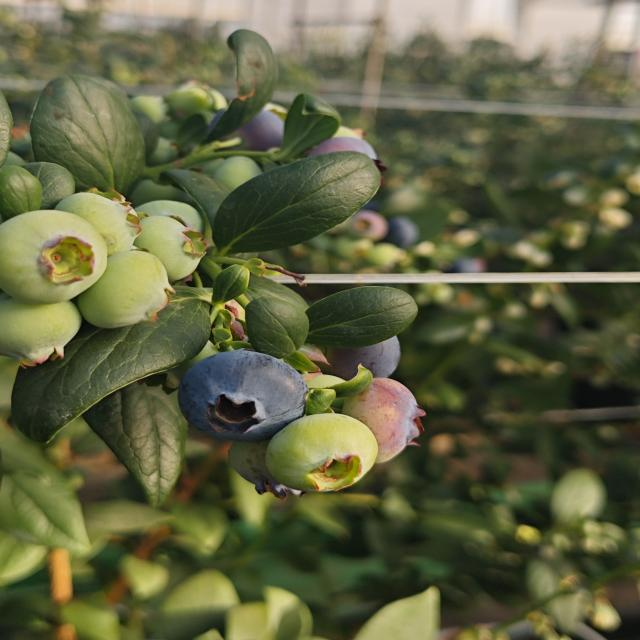ripe: (172, 348, 312, 439), (317, 314, 405, 380), (304, 125, 392, 175), (209, 99, 291, 150)
